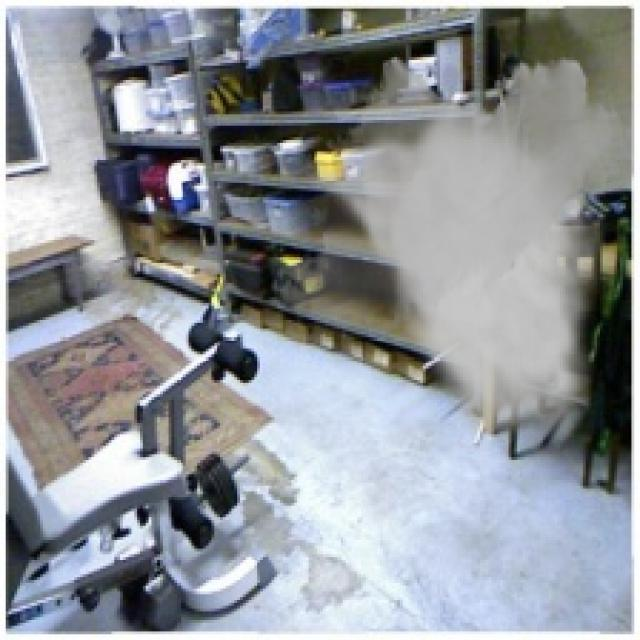Smoke: (268, 46, 634, 457)
